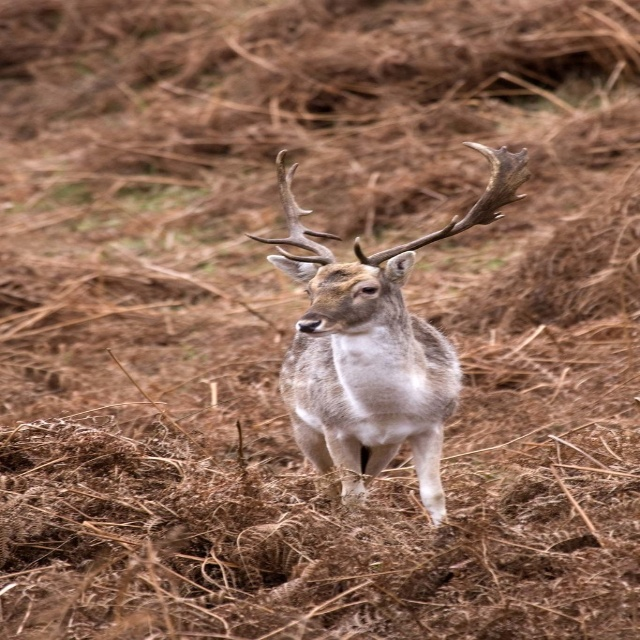Deer: (243, 141, 532, 537)
